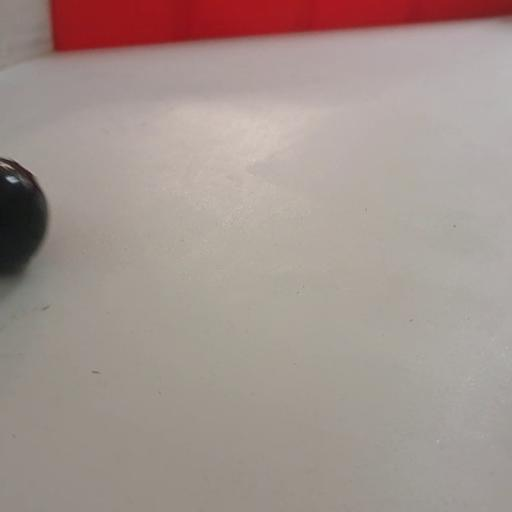dead: (0, 152, 49, 275)
